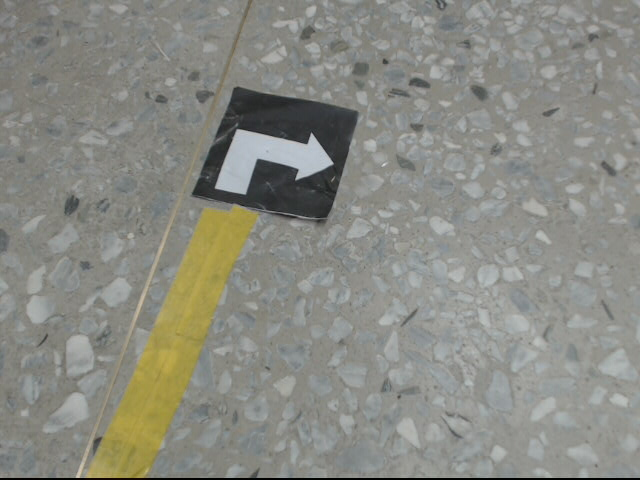right: (194, 84, 359, 224)
